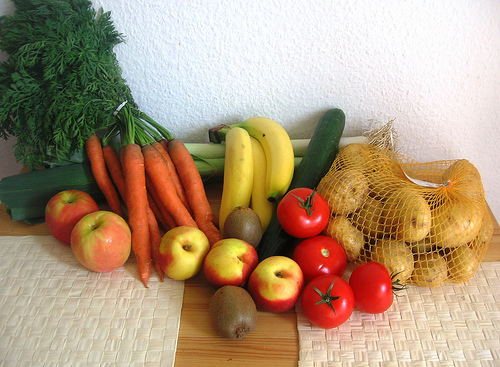cucumber: (259, 107, 347, 261)
